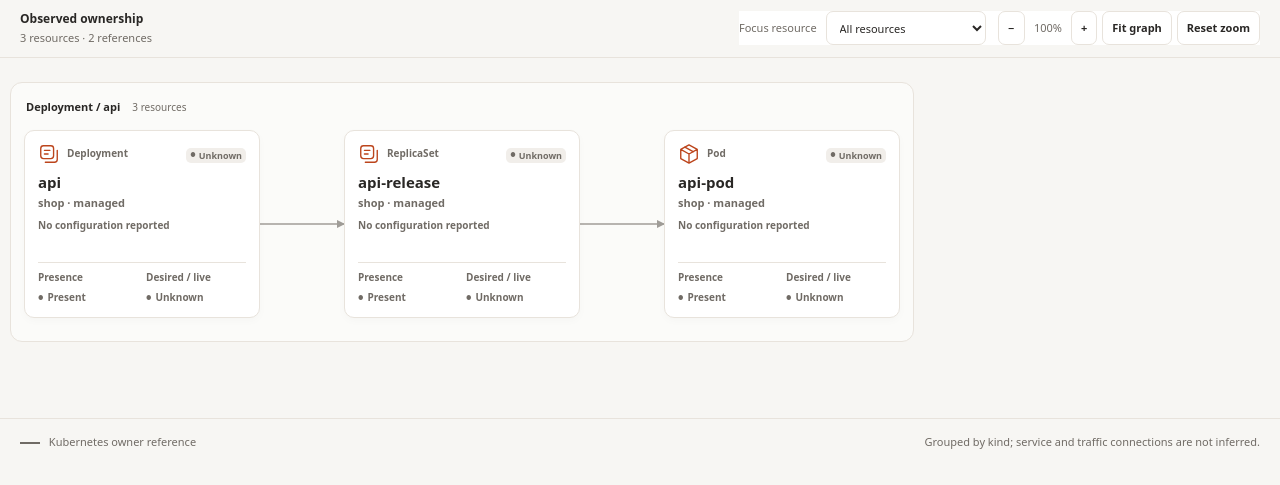
it: observed resource topology › focuses direct relationships without opening an inspector or hiding inventory
The width and height of the screenshot is (1280, 485).
Select "ReplicaSet / api-release" in the dropdown labelled "Focus resource" at (906, 28), box [826,11,986,45]
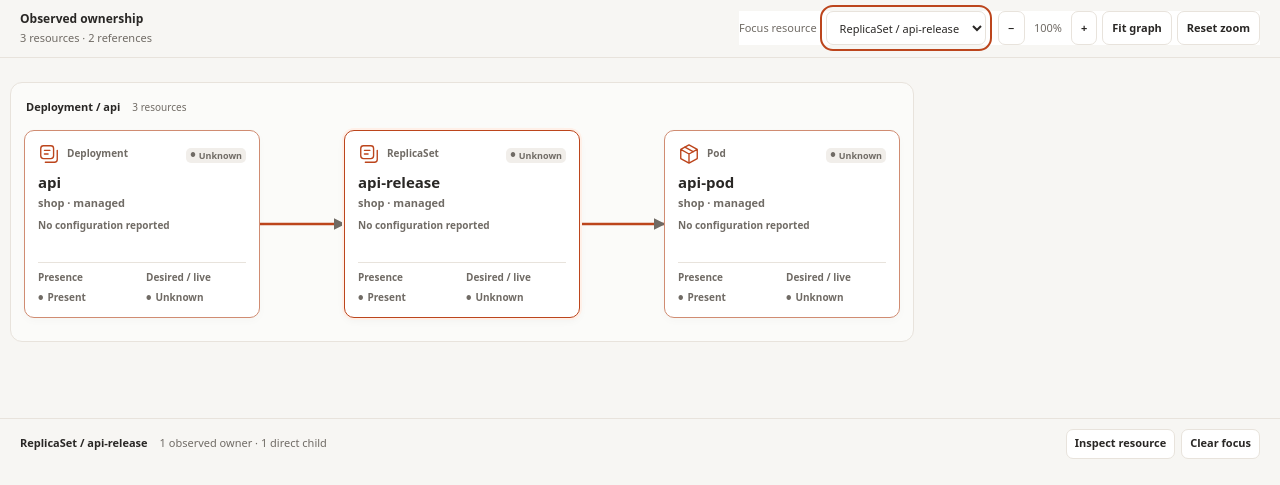
Check: the number of buttons named "Inspect " is 3, box [24,130,260,318]; [344,130,580,318]; [664,130,900,318]
Check: the message named "Graph focus" shows "1 observed owner · 1 direct child", box [0,418,1279,468]
Click the button "Clear focus".
click(1221, 444)  # box [1181,428,1260,458]
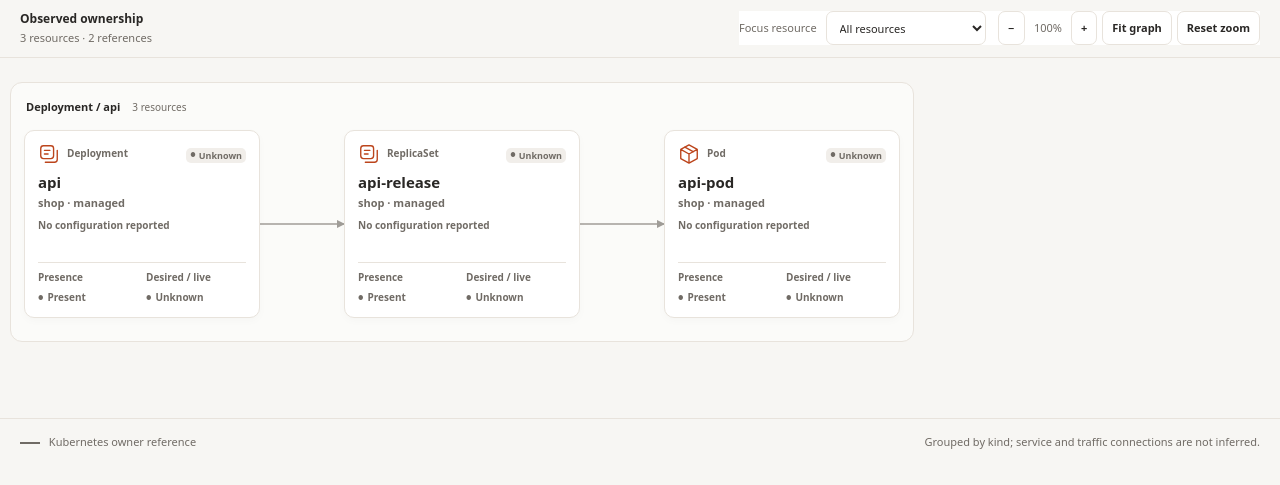
Check: the message named "Graph focus" shows "Kubernetes owner reference", box [46,434,196,449]
